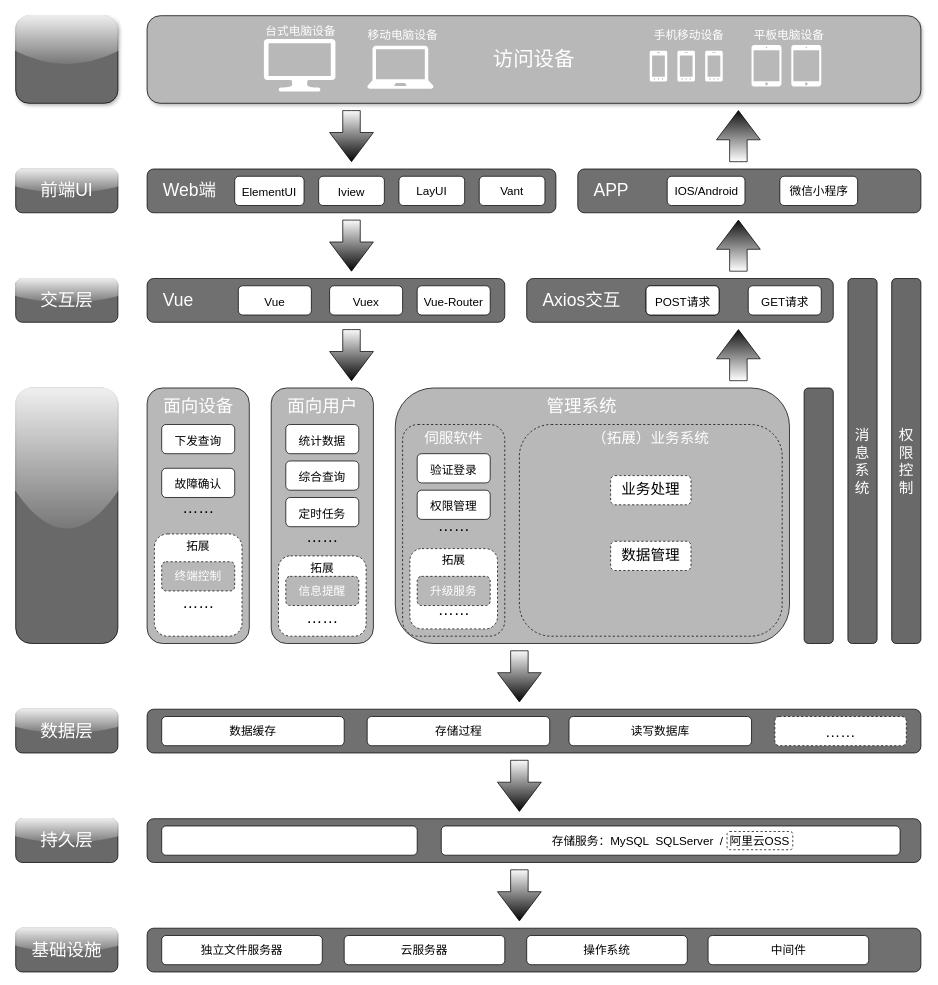
Image size: 938x985. Some labels were removed from this diagram. Here are the shapes that lost their labels. From the top down, the centre of each, then its label:
At (67,60): "访问层".
At (66,515): "后端服务层".
At (818,515): "日志记录".
At (289,840): "缓存服务：Redis Memcached".
